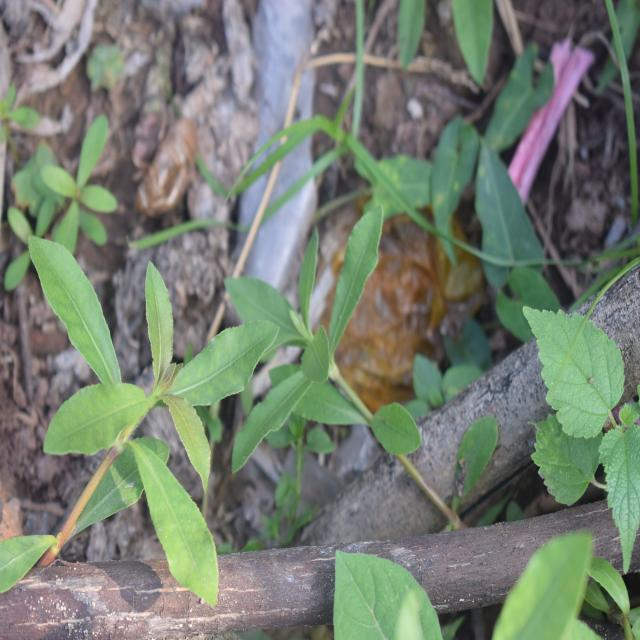Alligatorweed: (24, 216, 243, 580), (214, 184, 434, 490)
